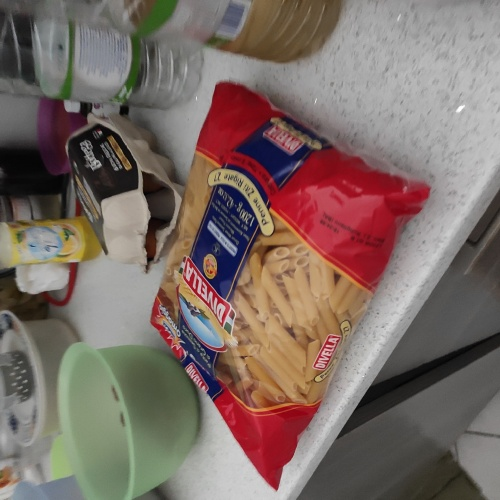pasta: (186, 114, 360, 425)
